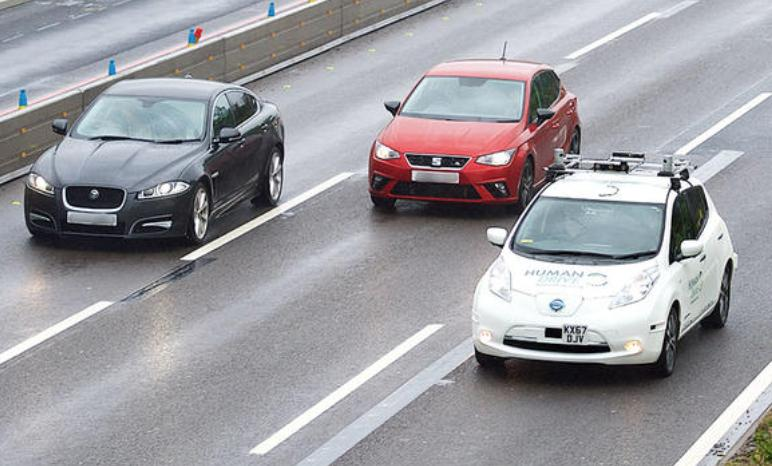car: (227, 161, 709, 399), (25, 69, 290, 246), (174, 69, 596, 128)
